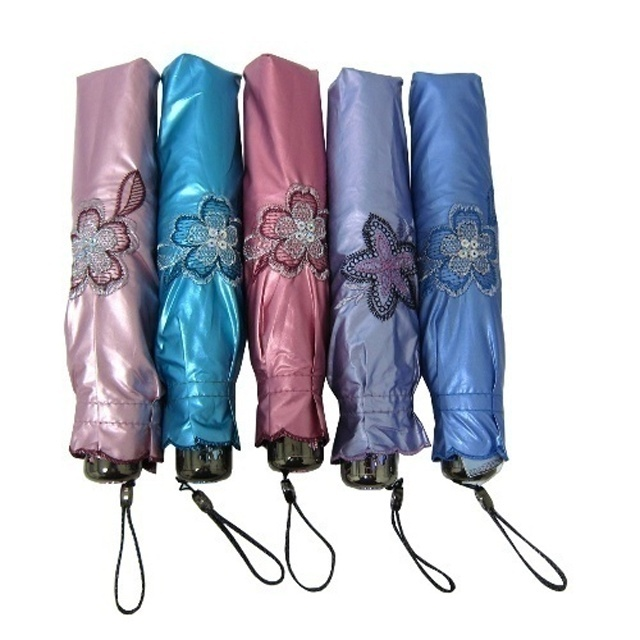umbrella: (410, 64, 511, 505), (324, 63, 424, 508), (65, 54, 163, 482), (154, 50, 247, 488), (240, 52, 329, 479)
